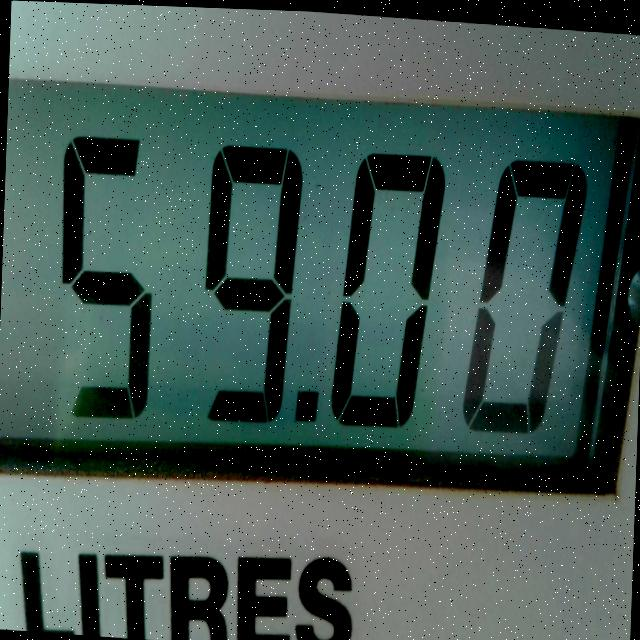.: (280, 380, 328, 453)
0: (328, 140, 439, 434), (464, 155, 580, 435)
5: (53, 130, 165, 415)
9: (195, 134, 302, 431)
